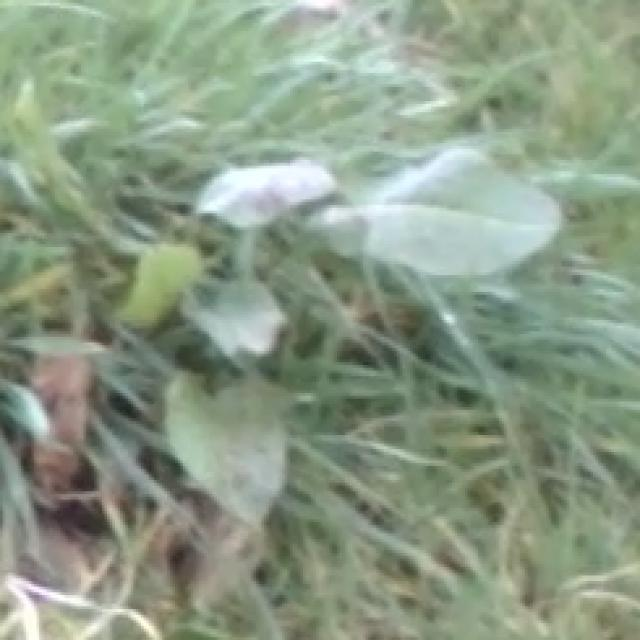organic waste: (52, 92, 568, 496)
